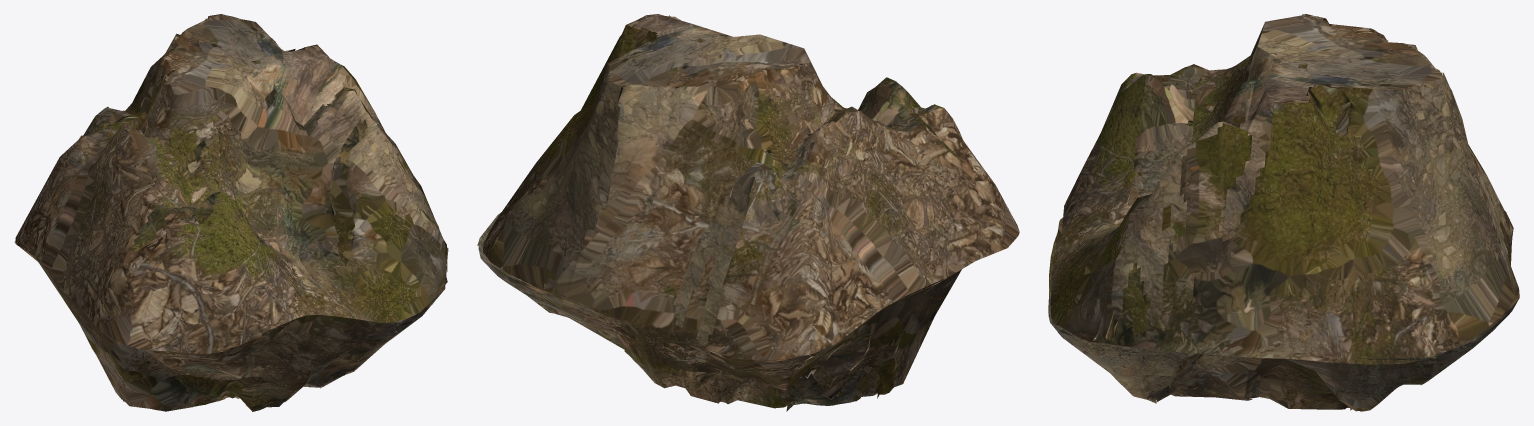
Rendered from stone.glb.
3 renders of one model, left to right at view 1: azimuth 30°, elevation 25°; view 2: azimuth 150°, elevation 25°; view 3: azimuth 270°, elevation 25°, orthographic. The views are drawn at different scales.
Parts seen in each view (by area): view 1: Landscape.001; view 2: Landscape.001; view 3: Landscape.001.
Boxes of the visible parts, box(x1,y1,x2,y2) form: Landscape.001: box(14, 14, 448, 411); Landscape.001: box(477, 14, 1019, 411); Landscape.001: box(1048, 14, 1519, 411).
Size of the model in its own units: 1.88 by 1.44 by 1.74.
Materials: 1 (1 with a texture image).
